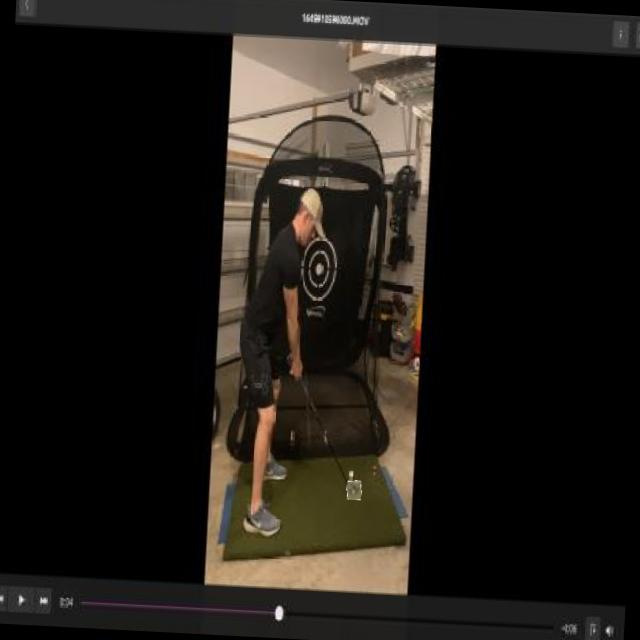club head: (346, 480, 362, 500)
